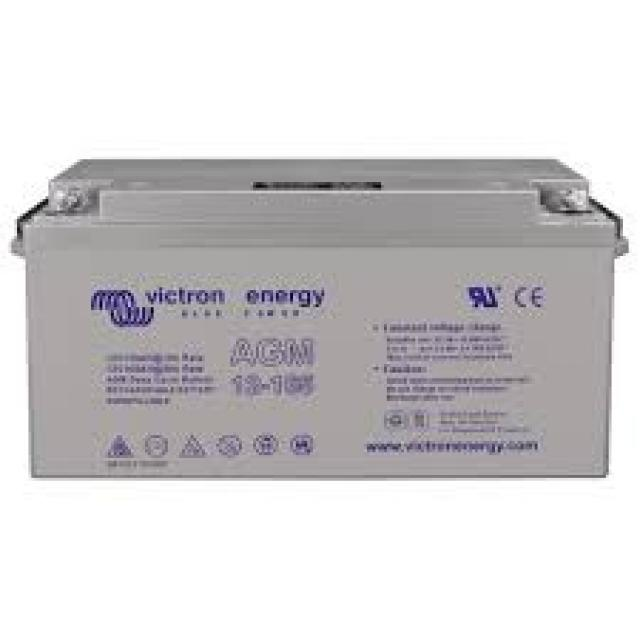non-organic waste: (27, 158, 610, 478)
